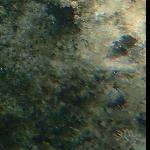dead: (5, 1, 146, 147)
